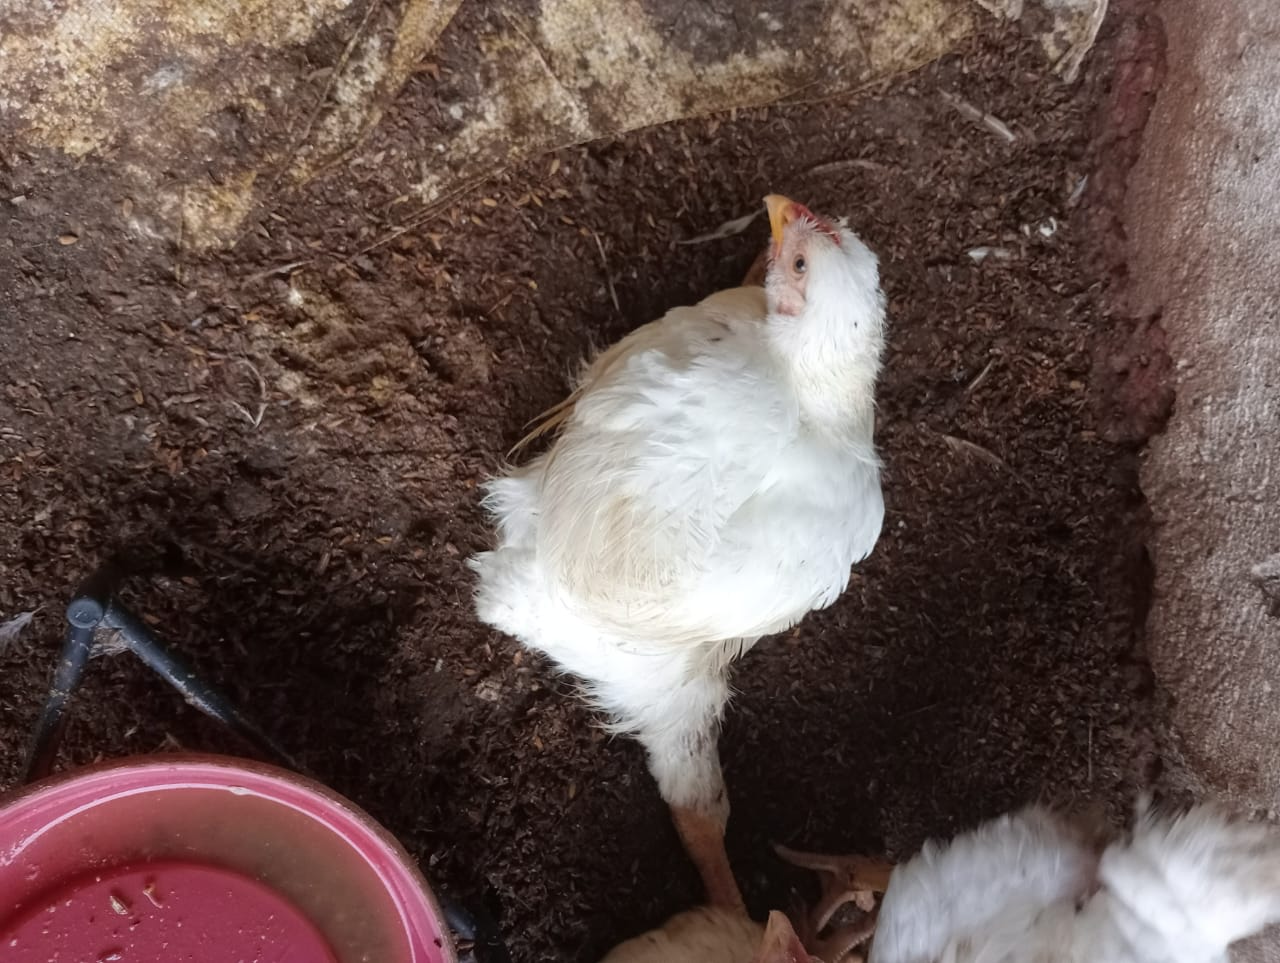Unhealthy: (426, 180, 914, 904)
